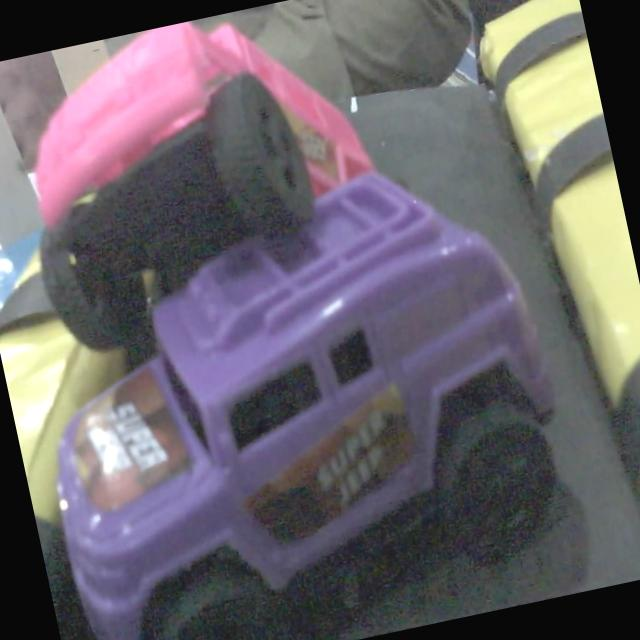Accident: (31, 27, 558, 639)
